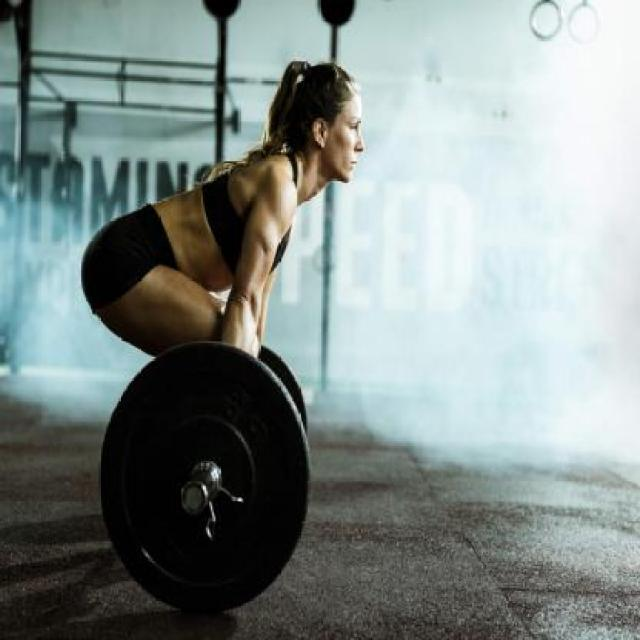Barbell: (175, 474, 212, 520)
